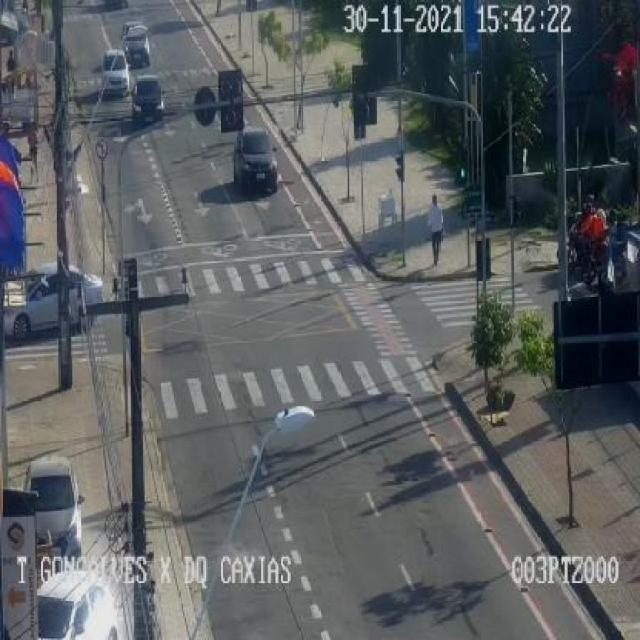Car: (0, 254, 106, 344), (24, 458, 84, 561), (35, 570, 121, 639), (233, 128, 278, 195), (130, 75, 165, 124), (101, 49, 131, 98), (122, 22, 150, 66)
Cycle: (554, 222, 626, 288)
